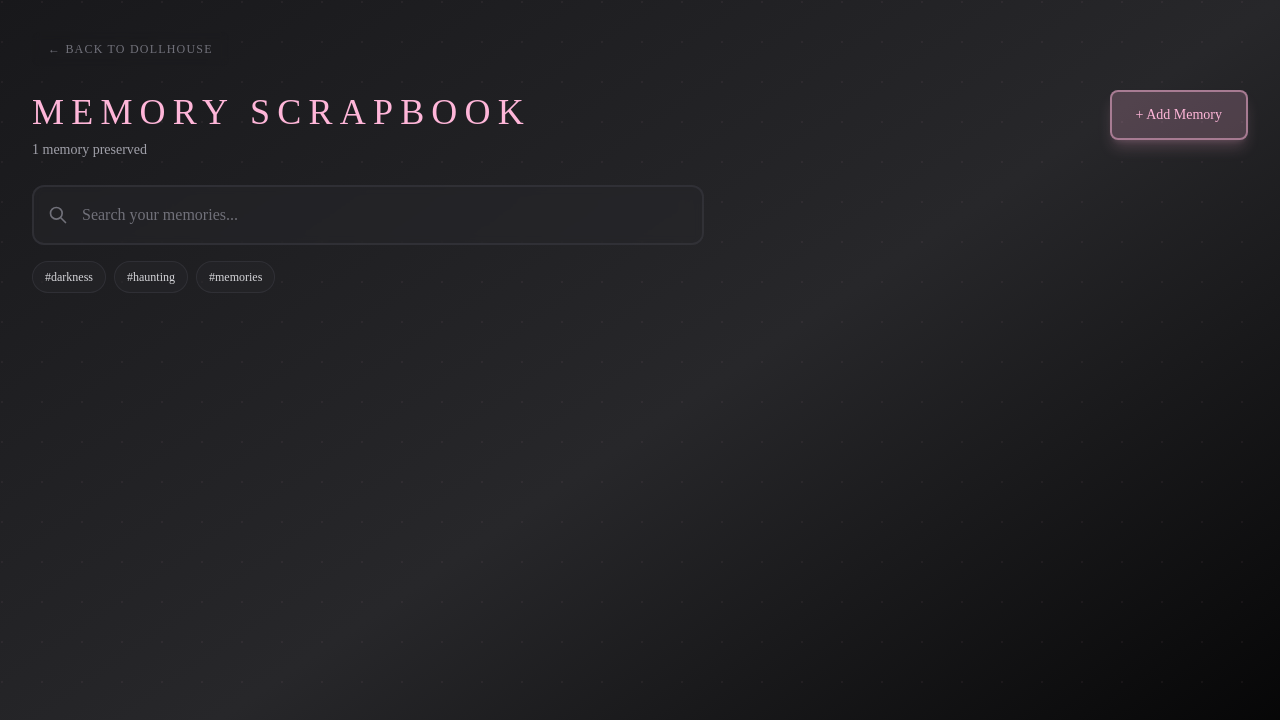
Test: MemoryScrapbook › opens add modal when capture button is clicked
The width and height of the screenshot is (1280, 720).
Click the button "+ Add Memory" at (1179, 115), box x1=1110 y1=90 x2=1248 y2=140
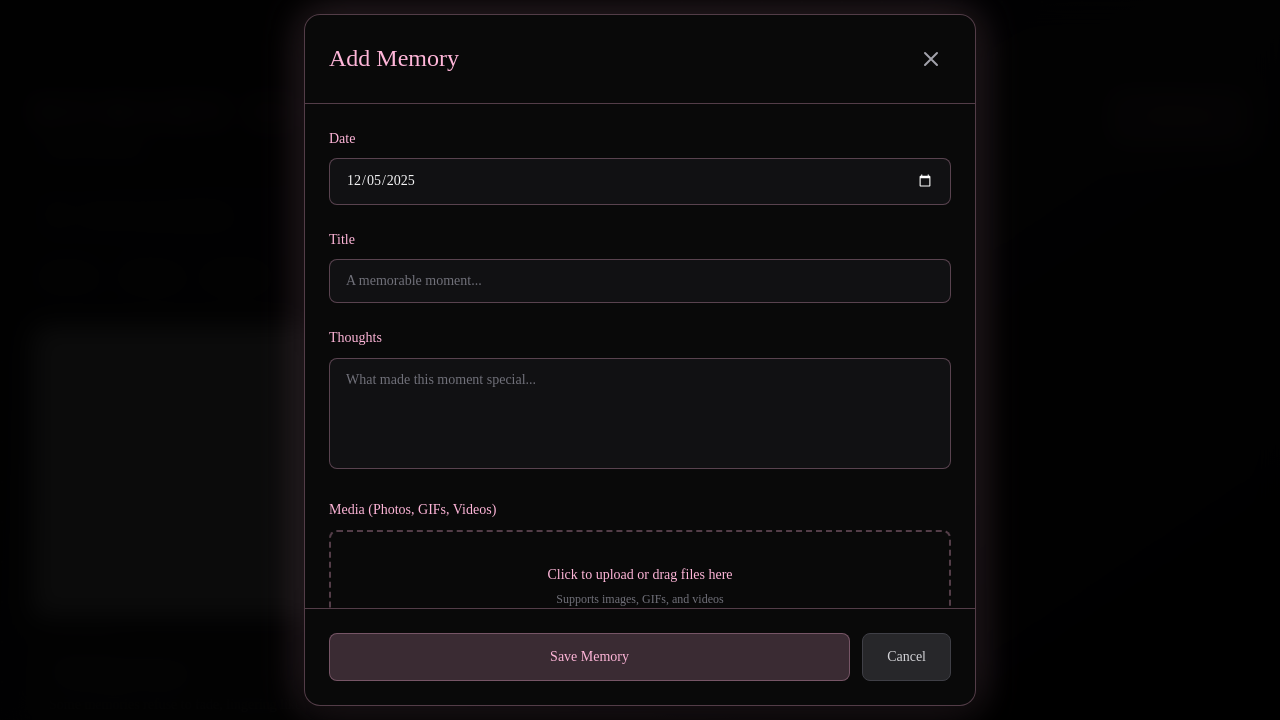
Check: the element with class "z-50" is shown
